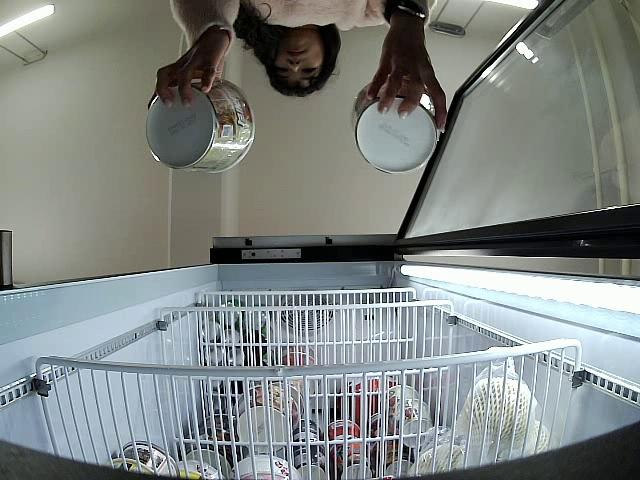00_hand: (366, 37, 447, 129), (147, 41, 231, 110)
03_chapagetti_L: (145, 77, 255, 175), (353, 81, 444, 175)
